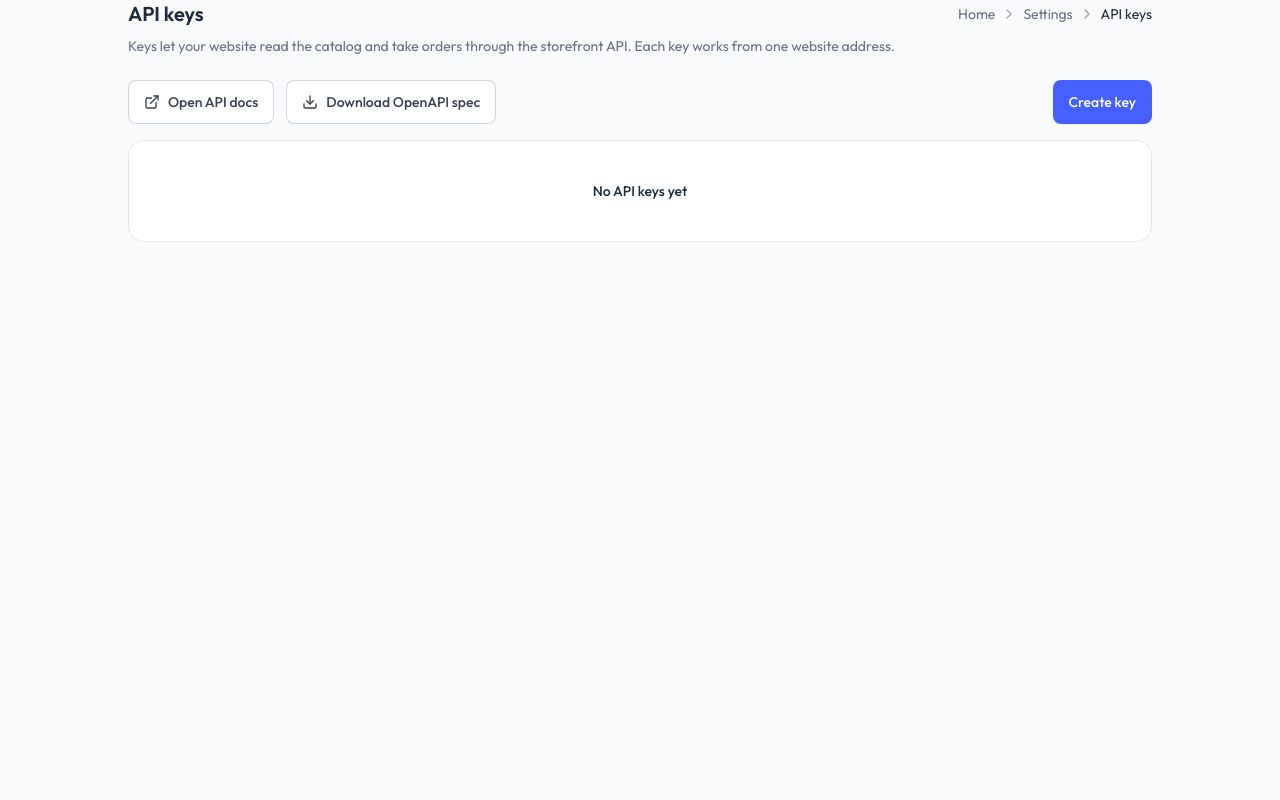
Test: the API keys screen (P1-201) › shows the origin rule next to the field on 422
Step 1. Click the button "Create key" → [1102, 102], box [1052,80,1152,124]
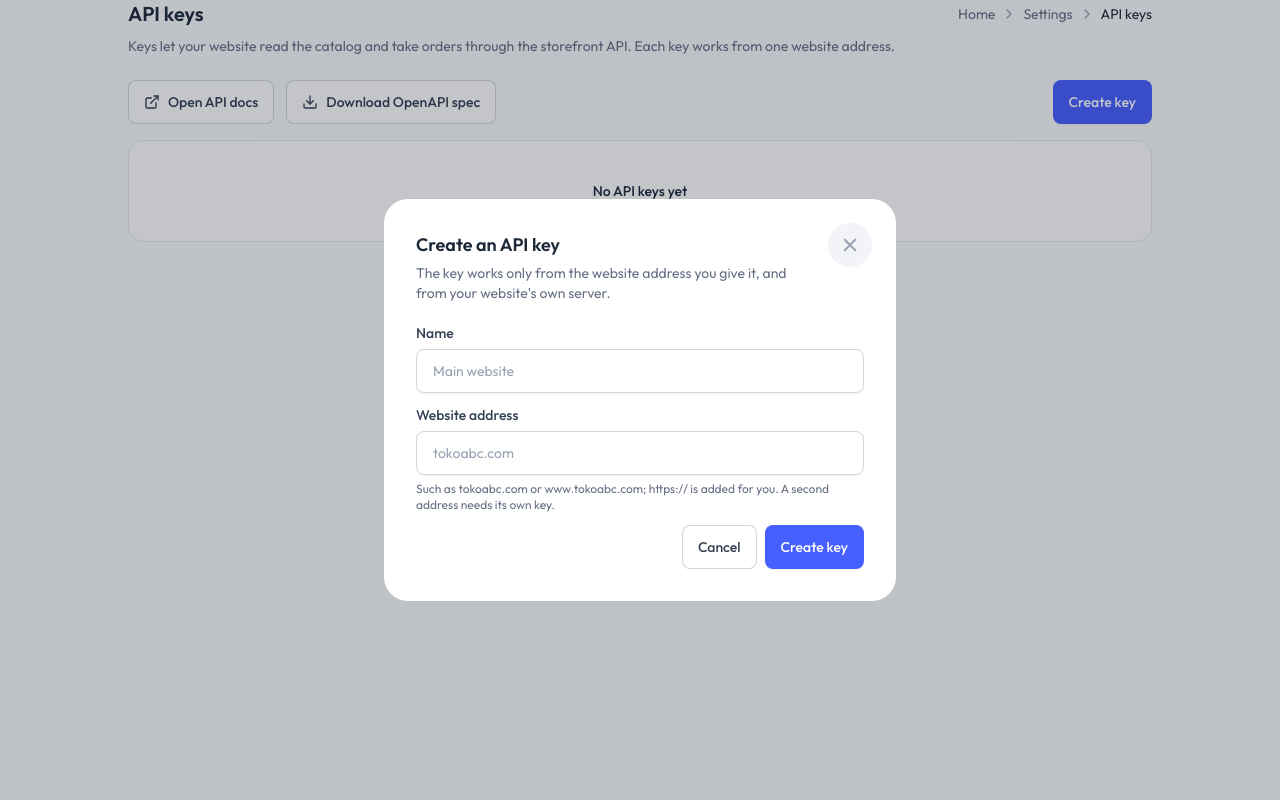
Step 2. Type "Shop" into the field labelled "Name" → [640, 371], box [416,349,864,393]
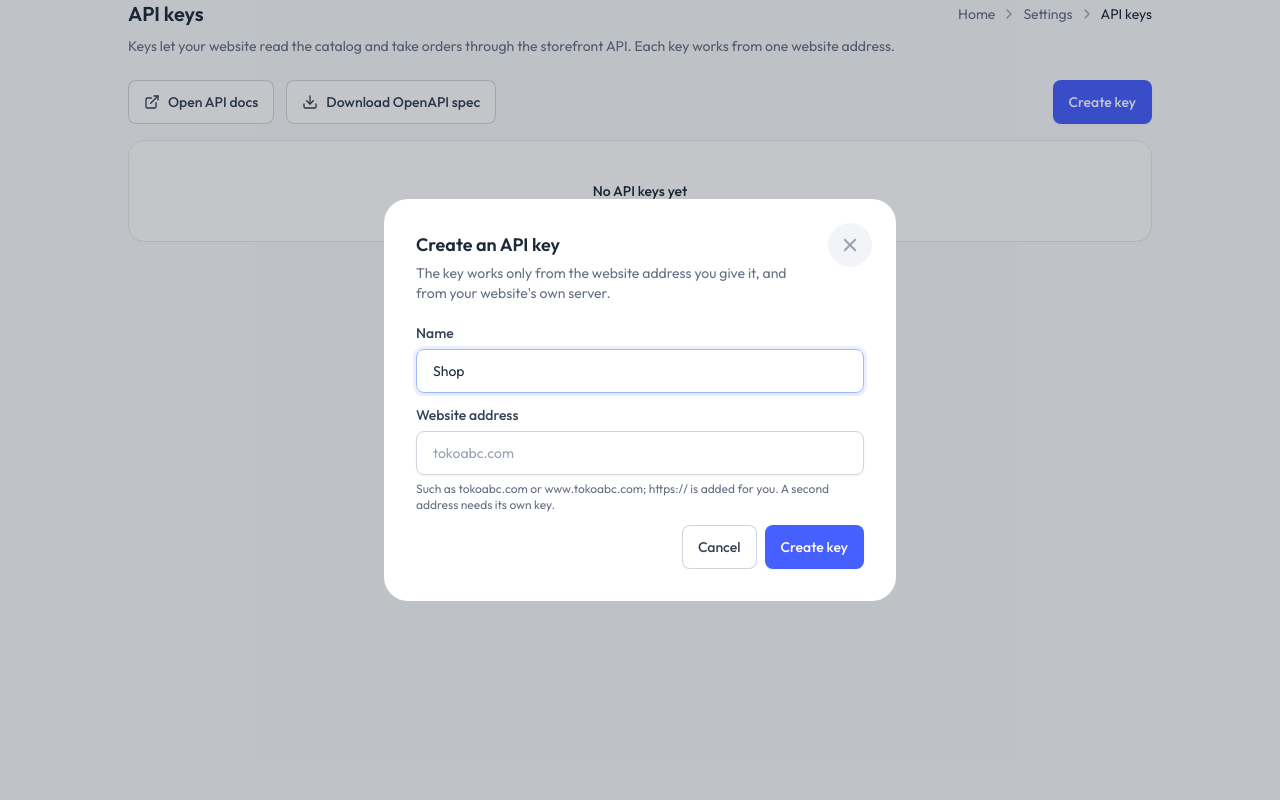
Step 3. Type "https://tokoabc.com/" into the field labelled "Website address" → [640, 453], box [416,431,864,475]
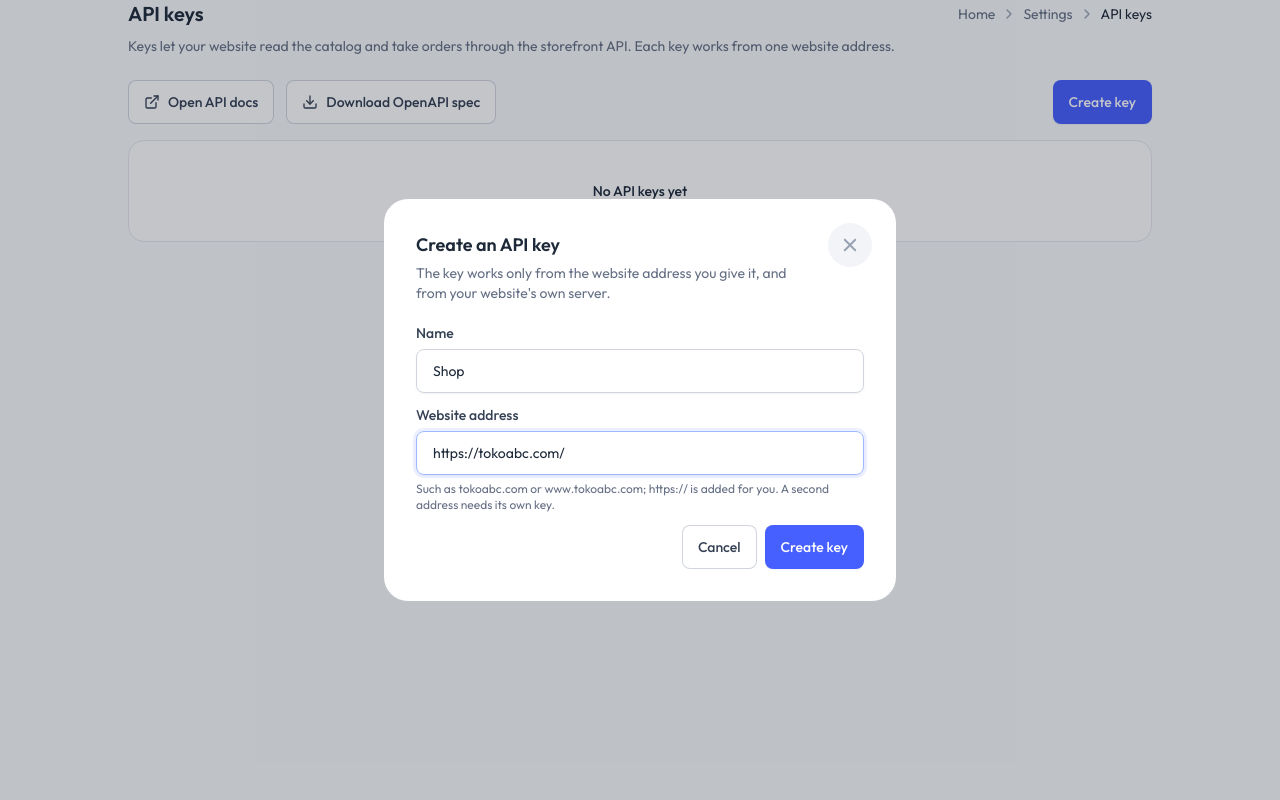
Step 4. Click the button "Create key" → [814, 547], box [764,525,864,569]
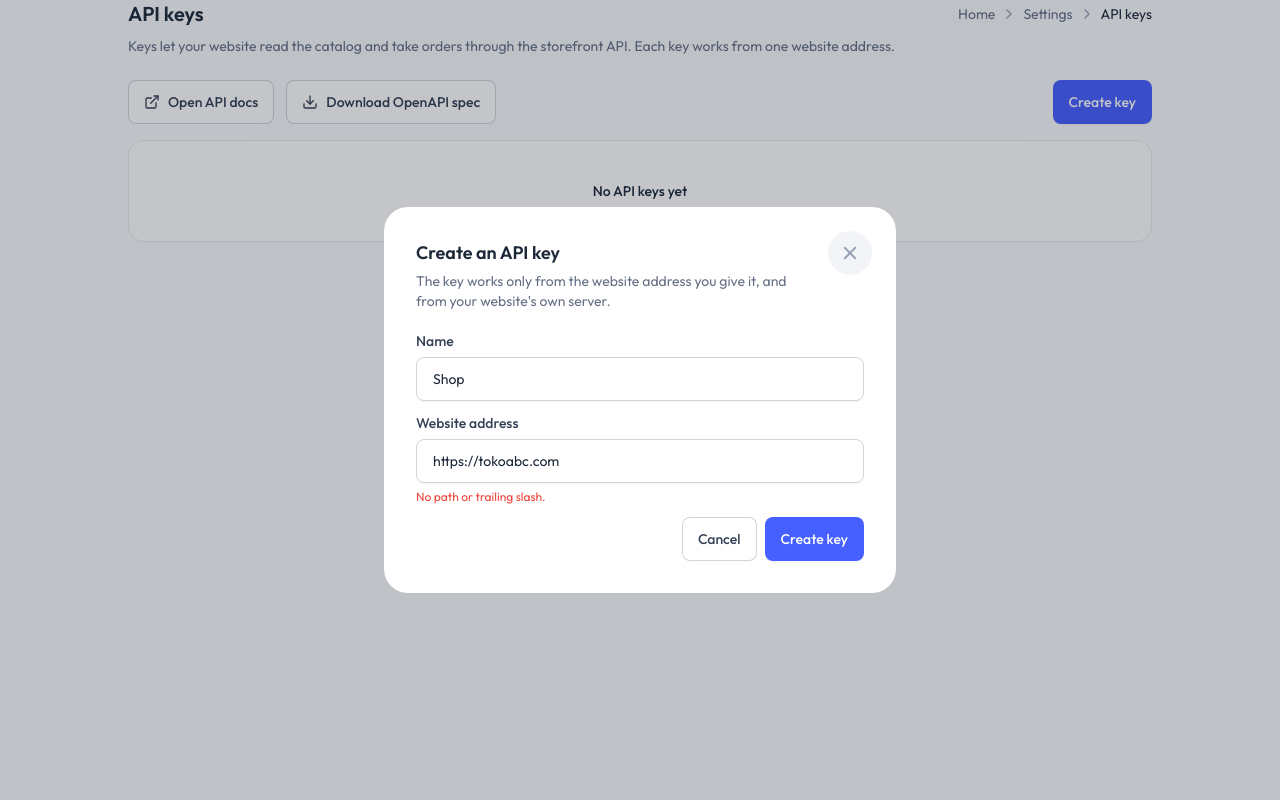
Expected: the text "No path or trailing slash." is shown, [416,489,546,504]
